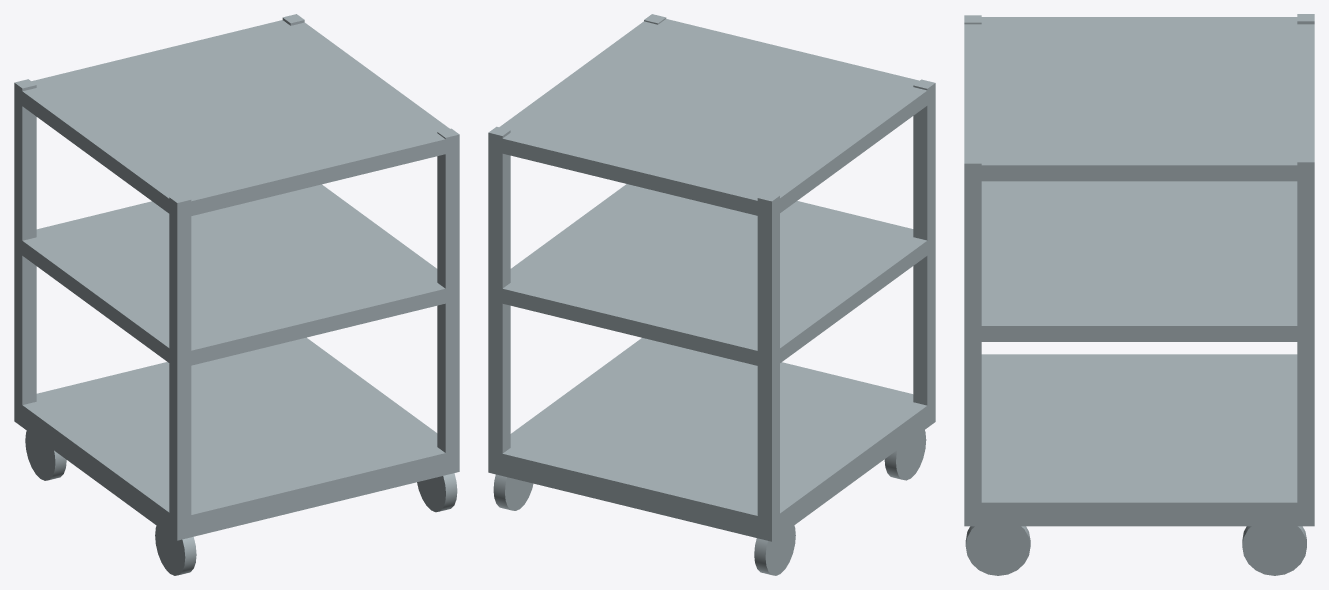
The model's file is Small-Wheel_Thing.fbx.
The picture shows the model from 3 angles, left to right: view 1: azimuth 30°, elevation 25°; view 2: azimuth 150°, elevation 25°; view 3: azimuth 270°, elevation 25°; orthographic projection. The views are drawn at different scales.
Visible parts, largest first — view 1: Short_Cart; view 2: Short_Cart; view 3: Short_Cart.
Boxes of the visible parts, x1,y1,x2,y2 form: Short_Cart: [14, 14, 459, 575]; Short_Cart: [488, 14, 935, 575]; Short_Cart: [964, 14, 1314, 575].
Size of the model in its own units: 0.7357 by 0.9604 by 0.7357.
Materials: 1 (1 with a texture image).
